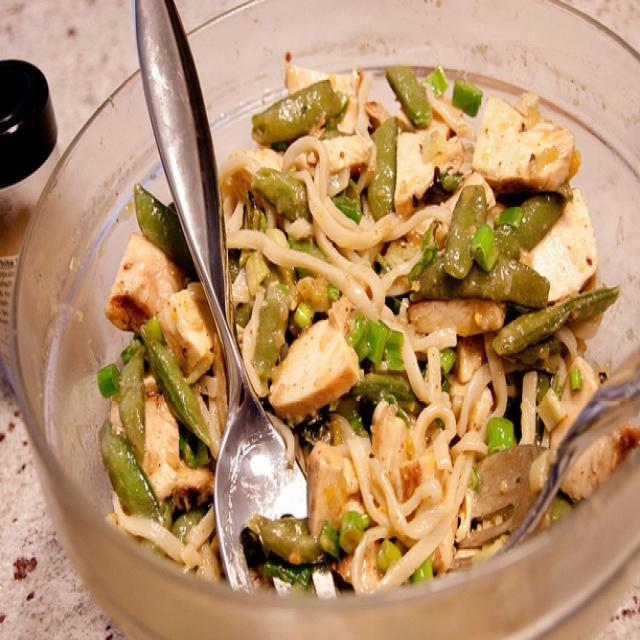鸡肉料理 含炸鸡: (49, 20, 612, 615)
